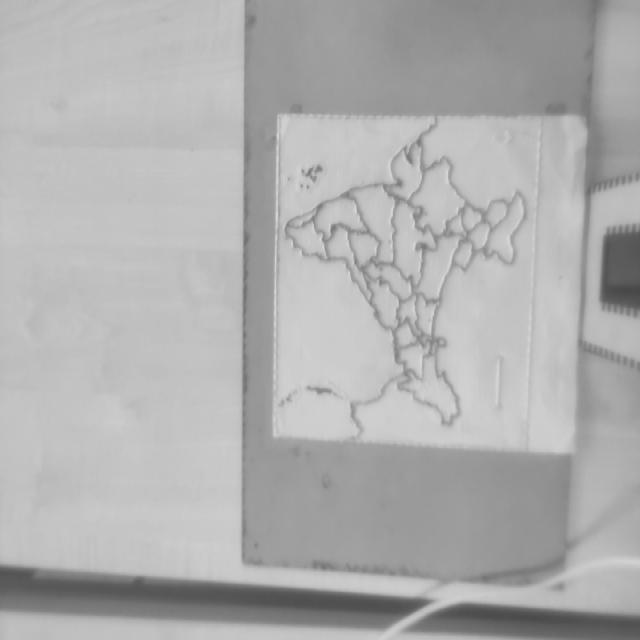map: (262, 104, 542, 452)
